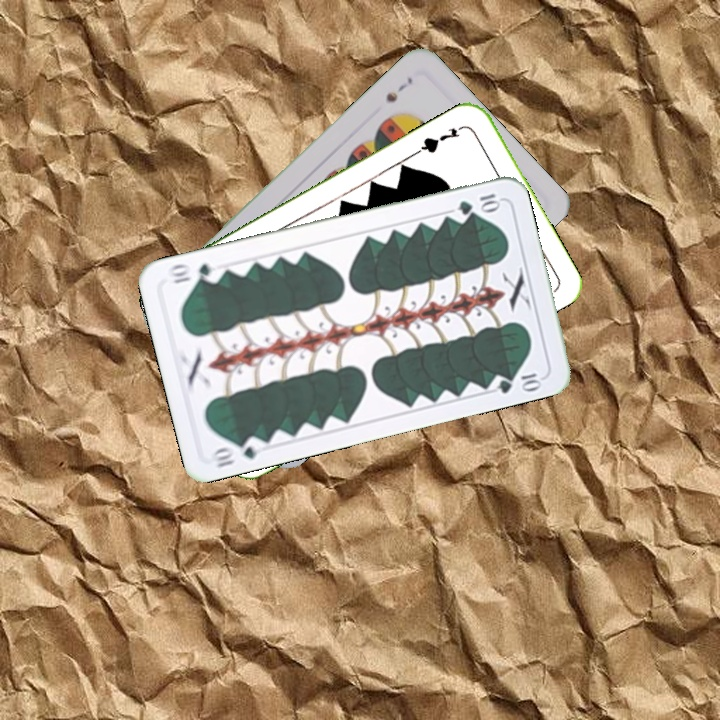G10: (208, 433, 265, 470), (454, 189, 503, 217)
G7: (413, 121, 468, 156)
S7: (381, 72, 415, 105)
